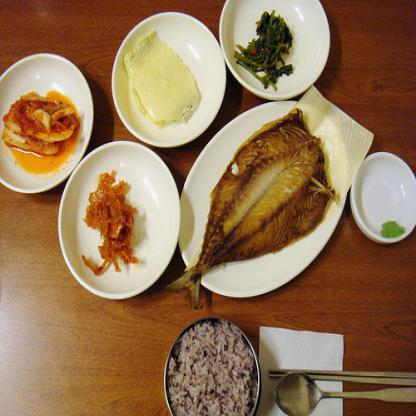Peixe: (176, 102, 345, 301)
